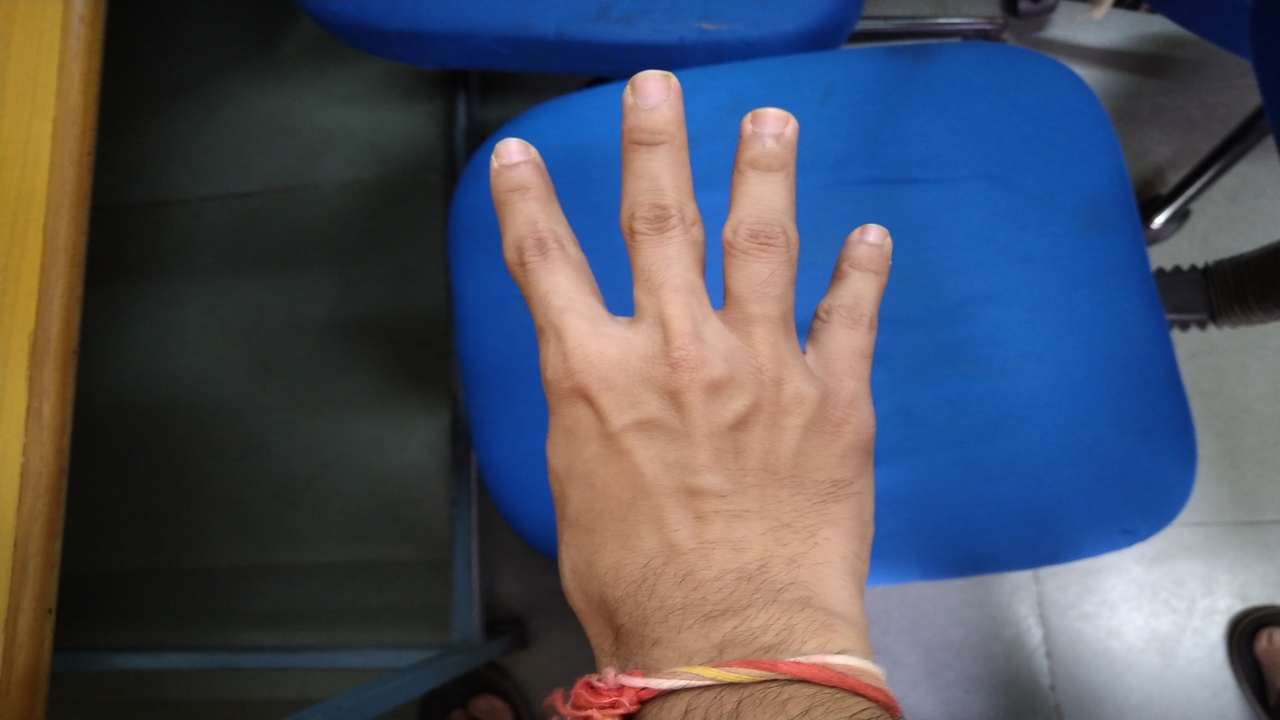fingertip: (728, 100, 808, 162), (618, 58, 688, 128), (832, 214, 904, 274), (484, 132, 550, 196)
